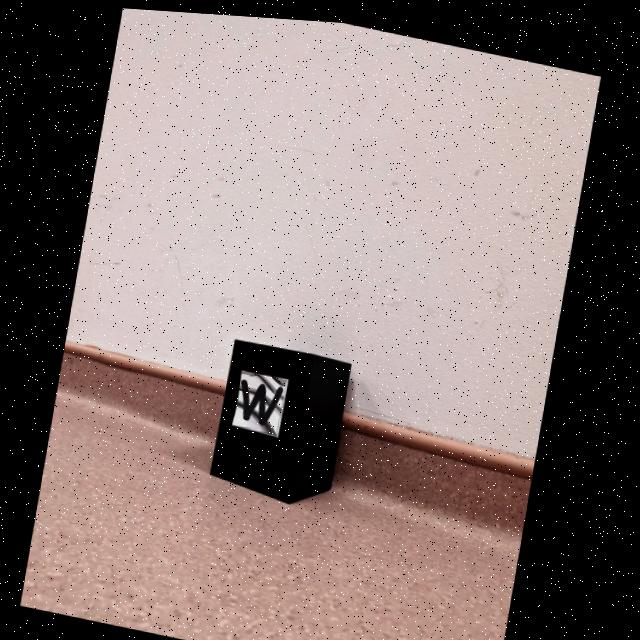W: (244, 376, 284, 421)
